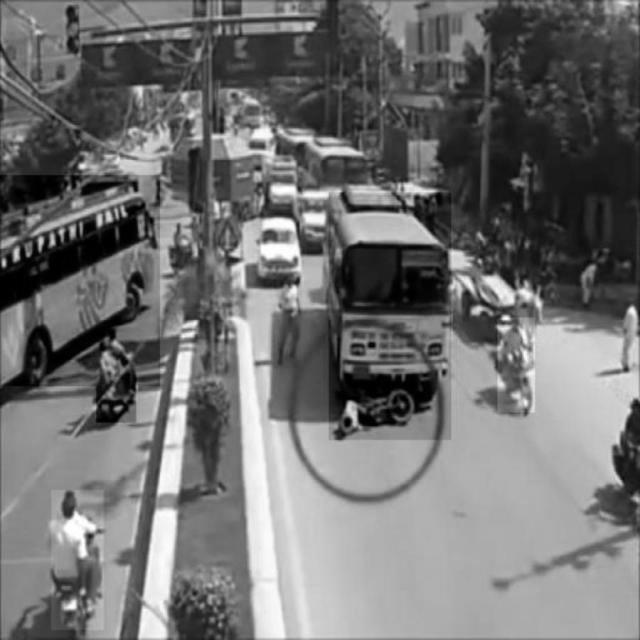accident: (329, 193, 451, 441)
person: (274, 273, 301, 369)
vehicle: (0, 175, 159, 386), (52, 491, 104, 631), (96, 329, 136, 422), (497, 318, 535, 412), (259, 217, 303, 283)
